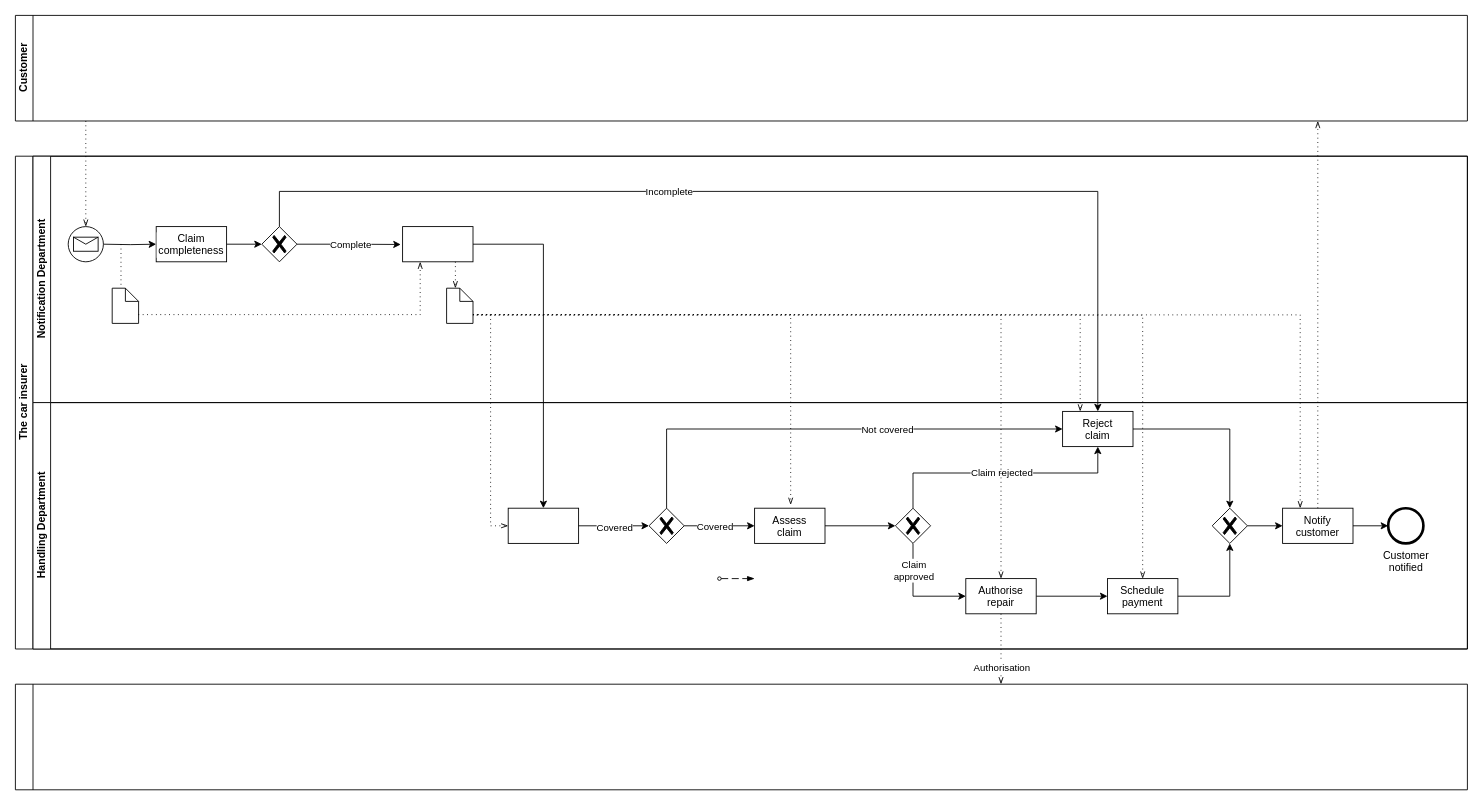
Some shapes in this 1483 by 805 pixel diagram are drawn without their labels. Each missing label, with the centre of its shape:
Claim documentation: point (125, 305)
Cleck insurance: point (543, 525)
Garage: point (741, 736)
Register claim: point (437, 244)
Registered claim: point (459, 305)
